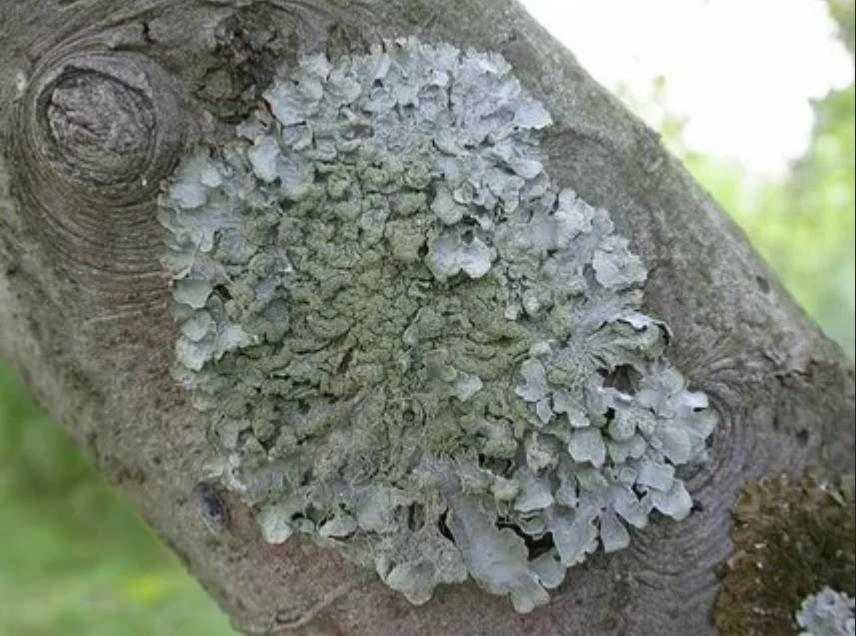lichen: (160, 39, 714, 611)
